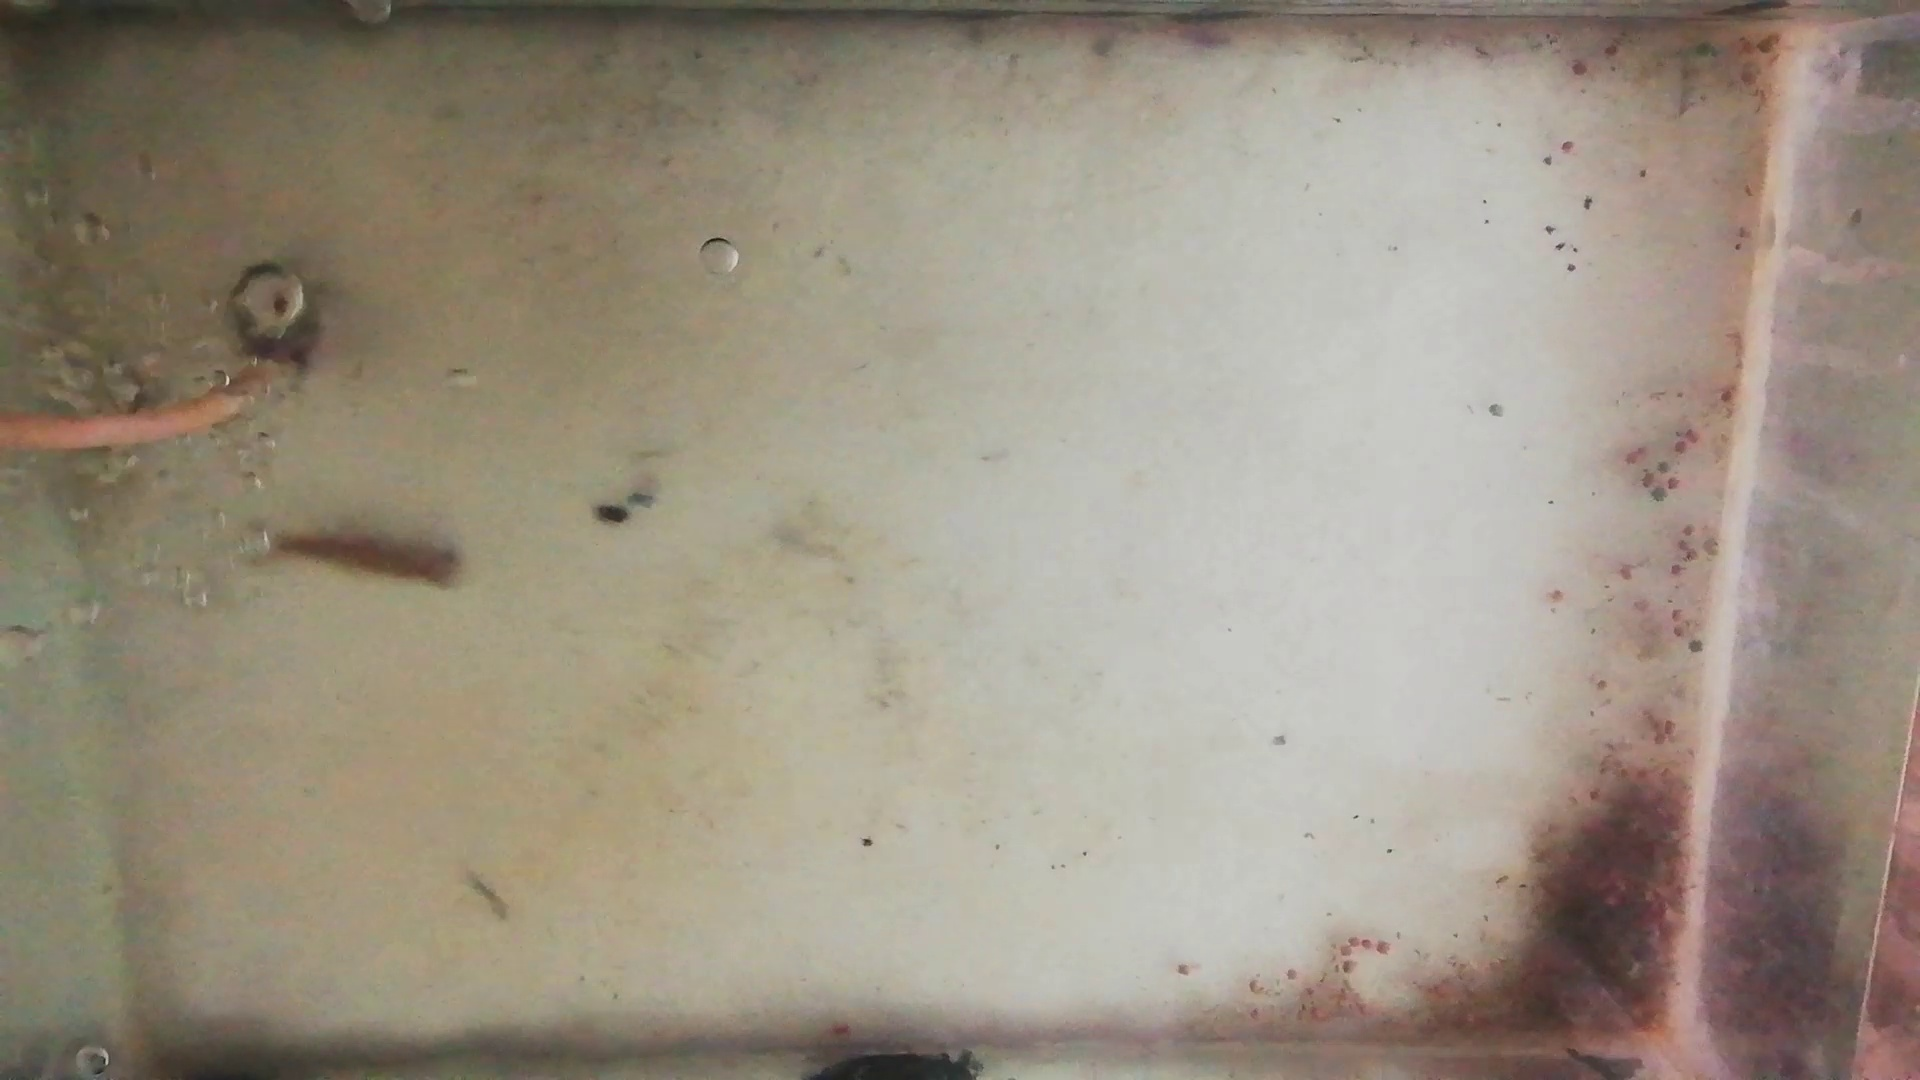fish: (260, 524, 458, 593), (107, 353, 161, 524)
